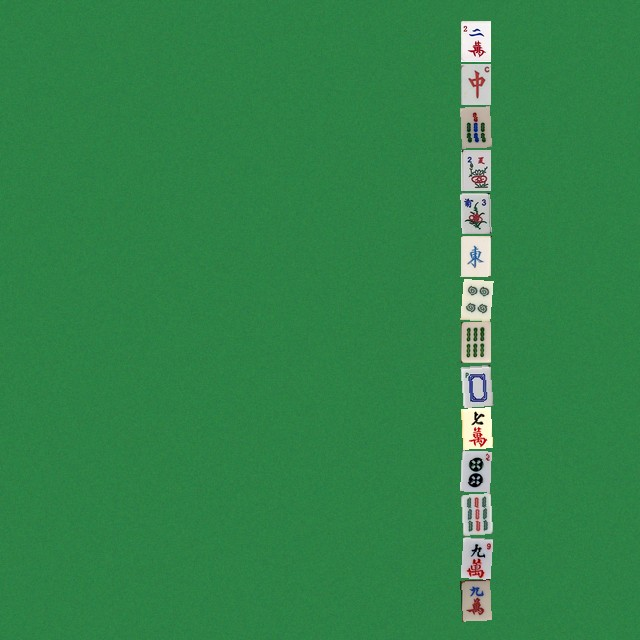tile: (460, 20, 490, 61), (460, 63, 490, 104), (460, 106, 490, 147), (460, 149, 490, 190), (460, 192, 490, 233), (460, 235, 490, 276), (460, 278, 490, 319), (460, 321, 490, 362), (460, 364, 490, 405), (460, 407, 490, 448), (460, 450, 490, 491), (460, 493, 490, 534), (460, 536, 490, 577), (460, 579, 490, 620)
